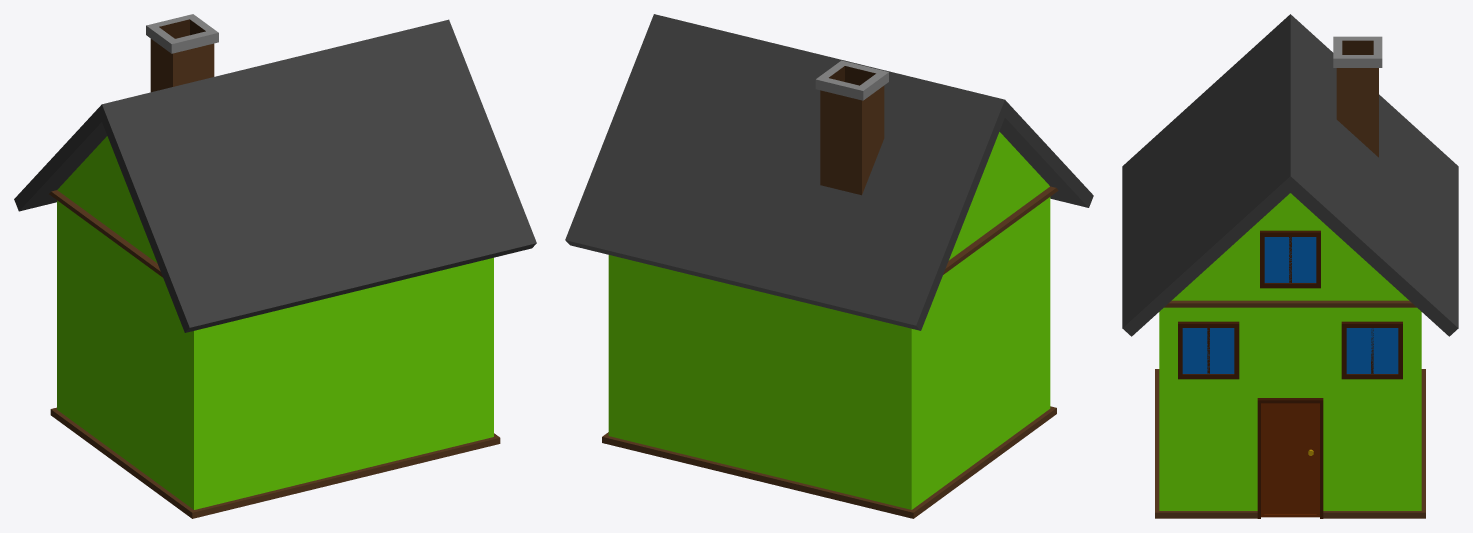
Rendered from House.fbx.
The picture shows the model from 3 angles, left to right: view 1: azimuth 30°, elevation 25°; view 2: azimuth 150°, elevation 25°; view 3: azimuth 270°, elevation 25°; orthographic projection. The views are drawn at different scales.
Parts seen in each view (by area): view 1: House; view 2: House; view 3: House.
Part boxes in pixels (x1,y1,x2,y2): House: (14, 14, 536, 518); House: (565, 14, 1093, 518); House: (1122, 14, 1458, 518).
Bounding box in the file's own units: 293 × 313 × 257.
1 material, 1 textured.
